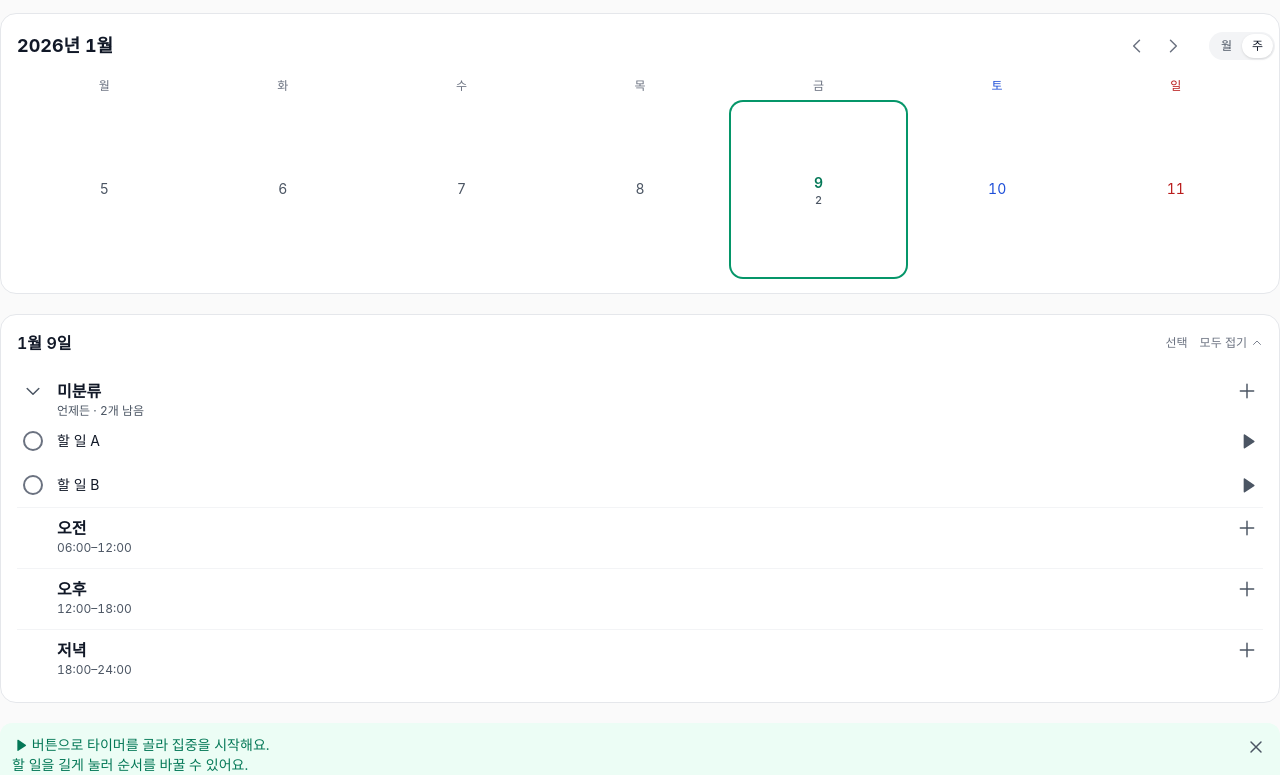
TodosPage delete undo › keeps a pending deleted todo hidden across refetch and restores it once on undo
(page scrolled)
Click the button "할 일 A" at (78, 440), box [57,431,1223,451]
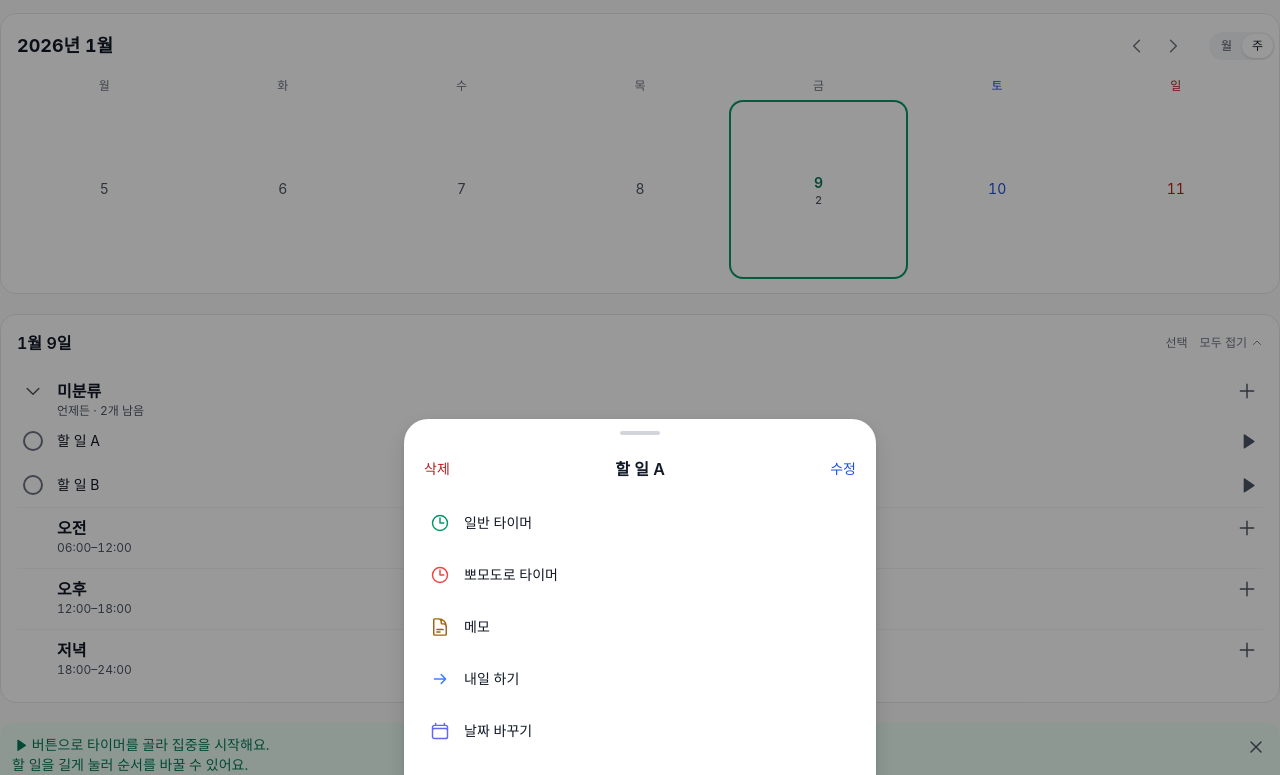
Click the button with aria-label "할 일 A 삭제" at (437, 469), box [412,451,462,487]
Wait 800 ms
(page scrolled)
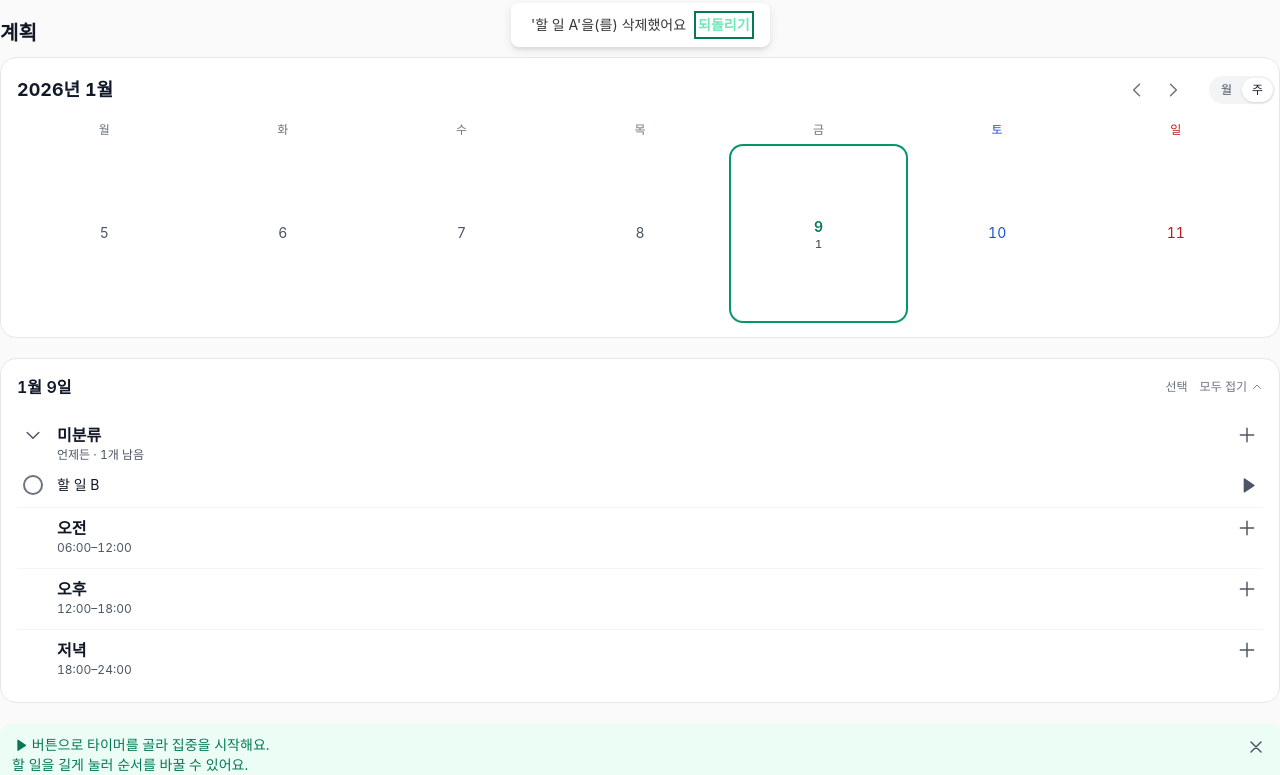
Click the button "되돌리기" at (724, 25), box [698,15,749,35]
Wait 6700 ms
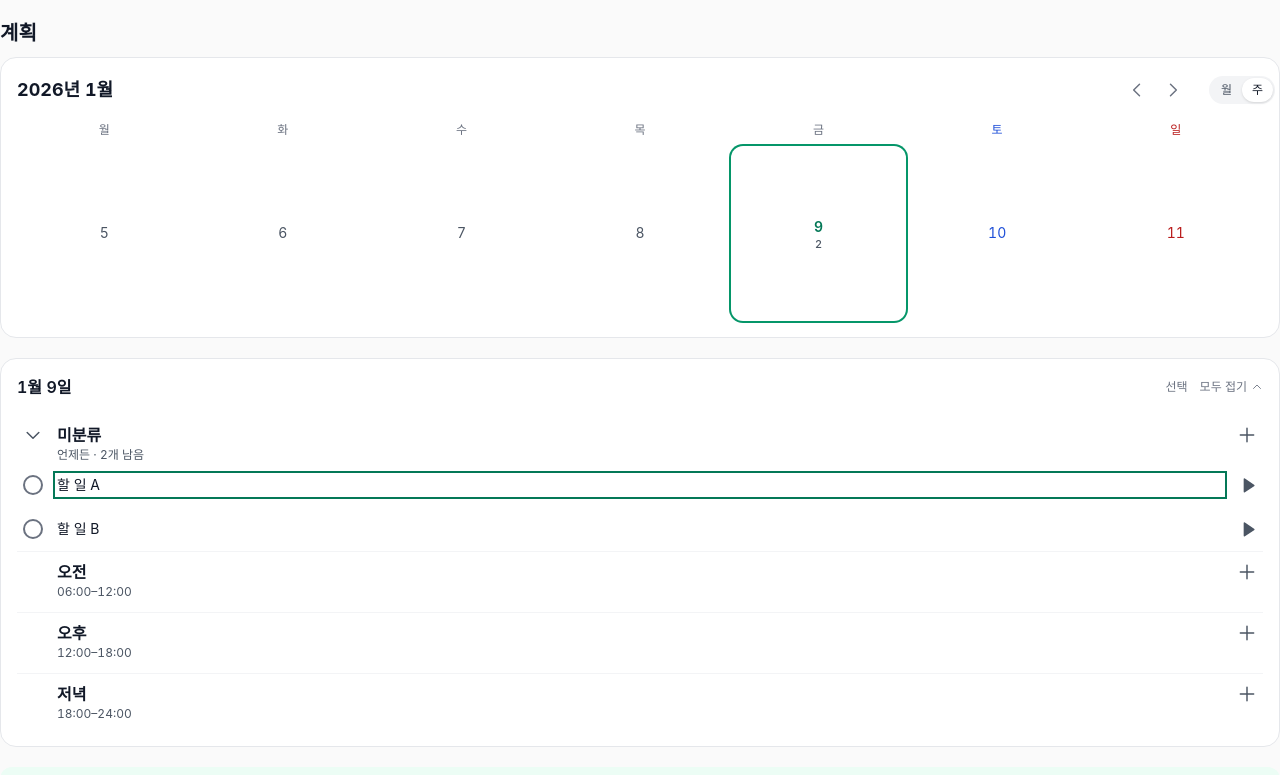
Now the text "할 일 A" is shown once, box [57,476,100,493]
